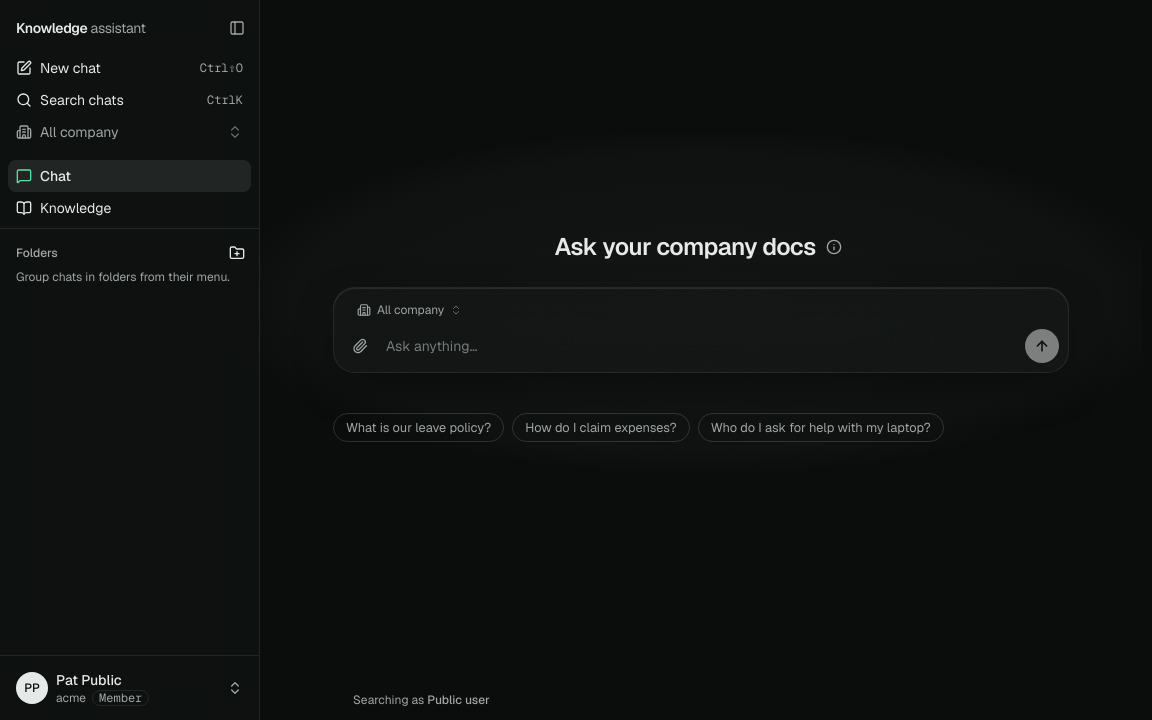
Test: the chat › saves a first question as a new conversation and moves to its address
Type "How many leave days?" into the text box named "Your question" at {"x": 701, "y": 346}, box [386,328,1016,364]
Then press Enter
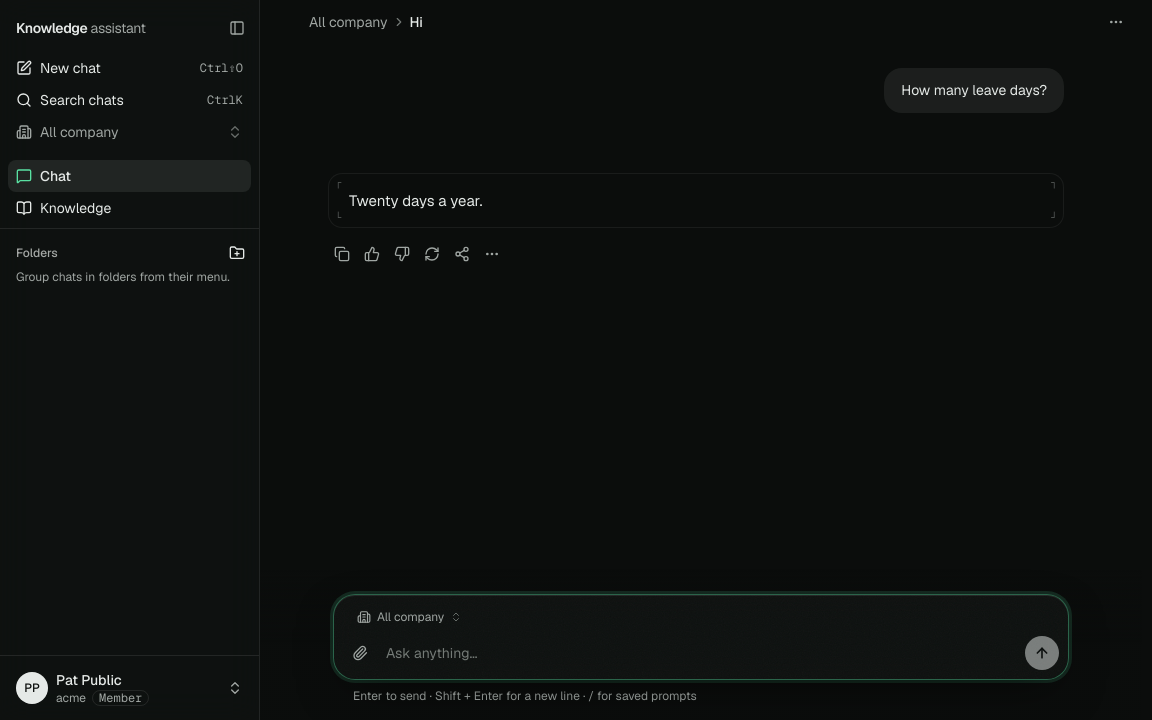
Expected: the text "Twenty days a year." is shown, [349,191,482,210]
